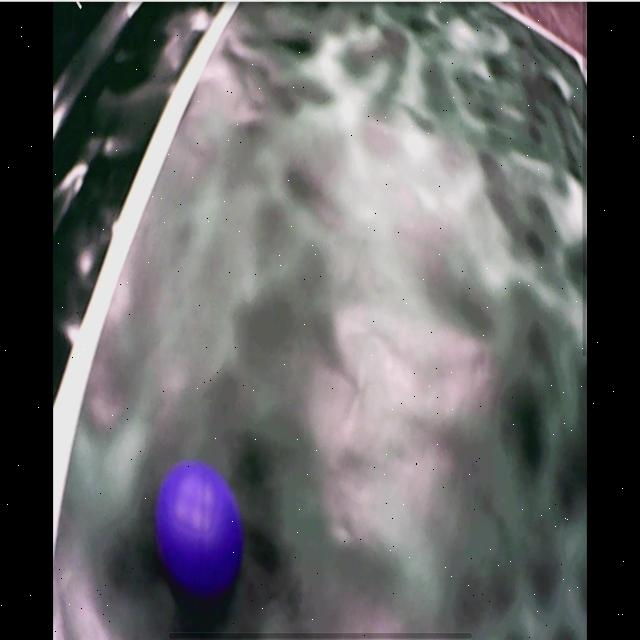ball: (154, 462, 243, 599)
